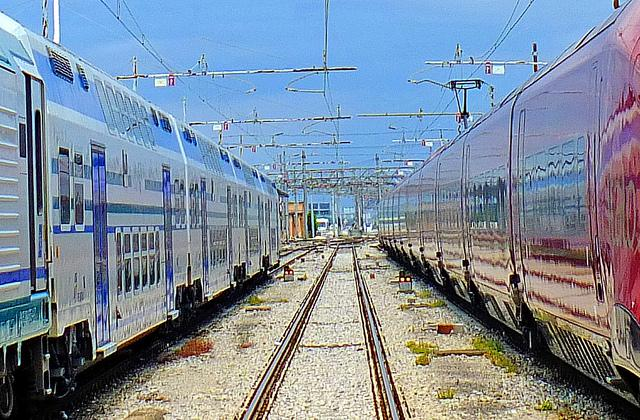Train: (0, 12, 291, 417), (376, 2, 640, 327)
